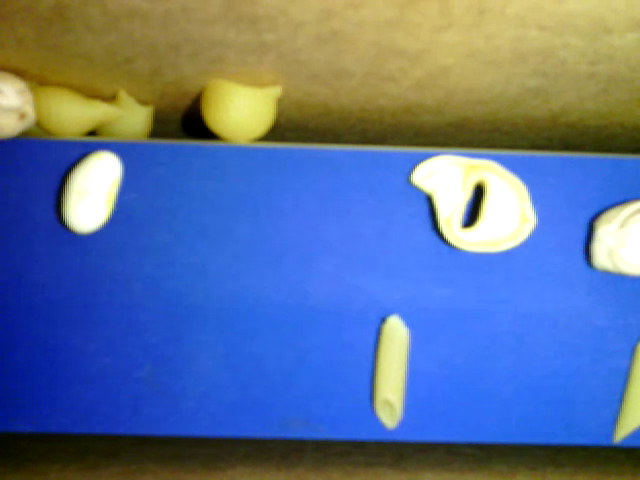penne: (370, 317, 411, 427), (609, 342, 639, 445)
shell: (200, 73, 281, 147), (29, 85, 125, 137), (93, 86, 155, 139)
tortellini: (408, 153, 538, 254), (585, 196, 639, 276)
